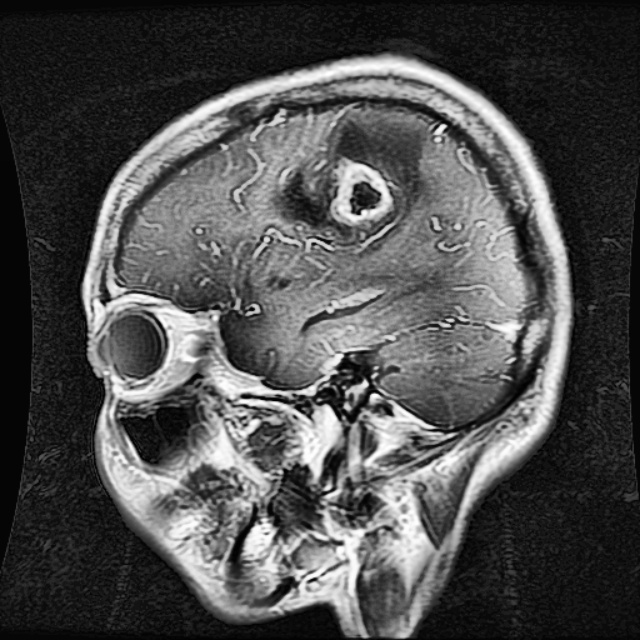Meningioma: (278, 109, 439, 230)
